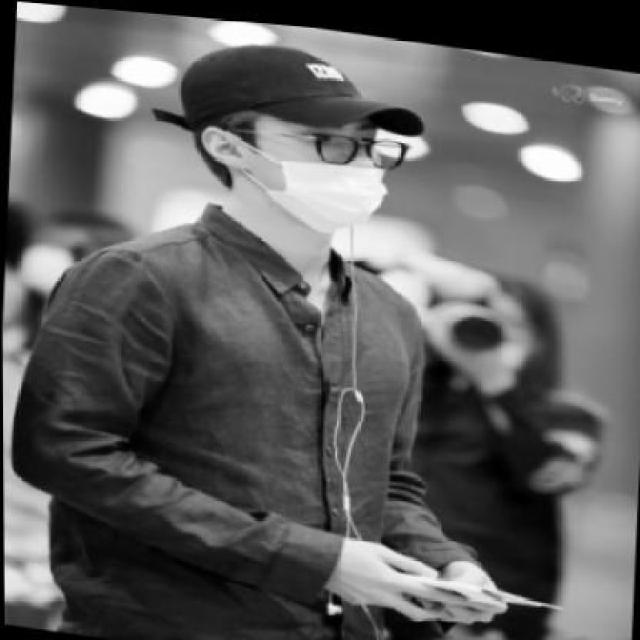hat: (155, 24, 431, 156)
